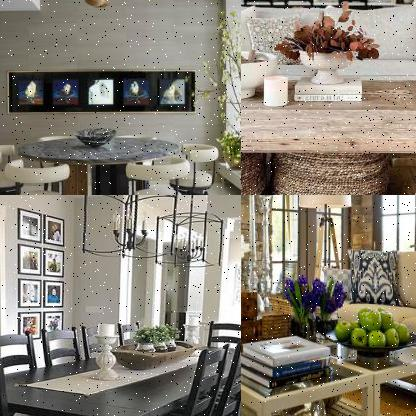table: (241, 277, 415, 415), (241, 73, 415, 194), (0, 329, 240, 415), (13, 132, 182, 194)
